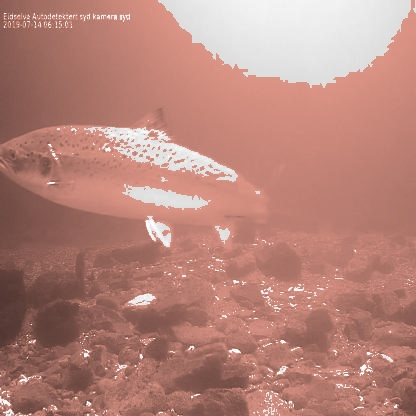salmon: (0, 100, 285, 257)
